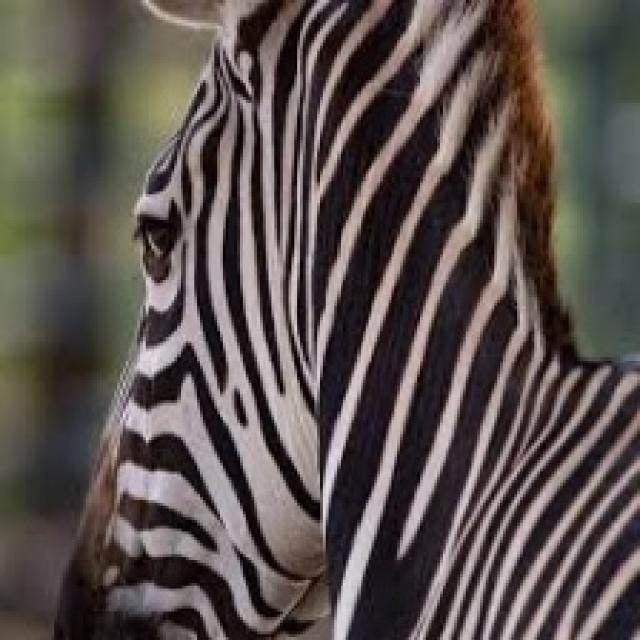bear: (100, 0, 623, 640)
